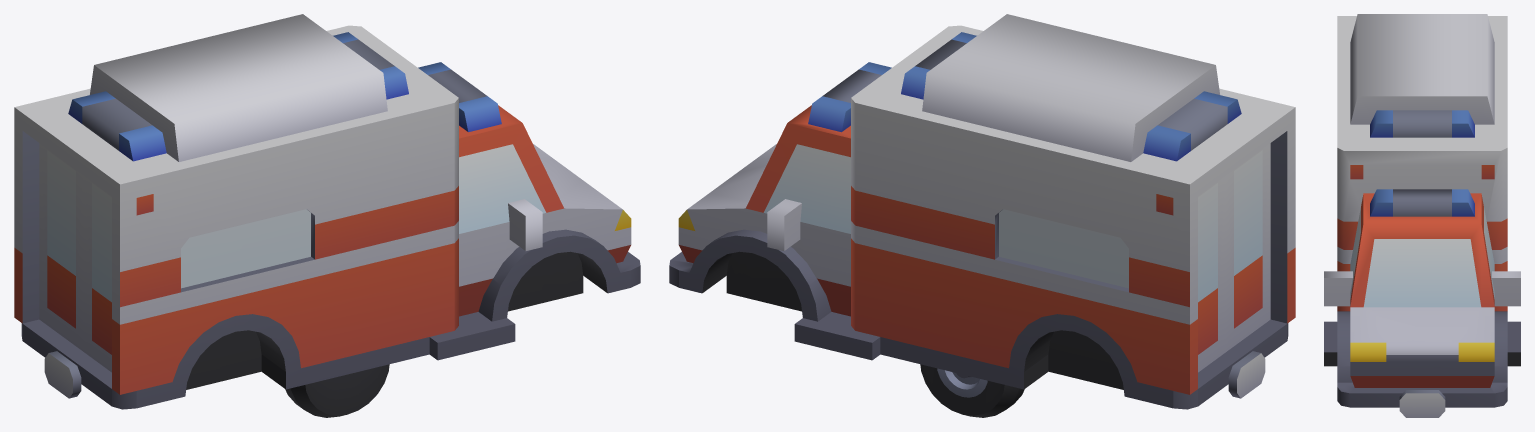
The model's file is ambulance.glb.
3 renders of one model, left to right at view 1: azimuth 30°, elevation 25°; view 2: azimuth 150°, elevation 25°; view 3: azimuth 270°, elevation 25°, orthographic. The views are drawn at different scales.
Parts seen in each view (by area): view 1: body, wheel; view 2: body, wheel; view 3: body.
Boxes of the visible parts, left/top/right/bottom form: body: left=14, top=14, right=640, bottom=409; wheel: left=285, top=364, right=389, bottom=417; body: left=669, top=14, right=1295, bottom=409; wheel: left=920, top=364, right=1024, bottom=417; body: left=1324, top=14, right=1520, bottom=417.
Bounding box in the file's own units: 4.8 × 3.1 × 1.86.
